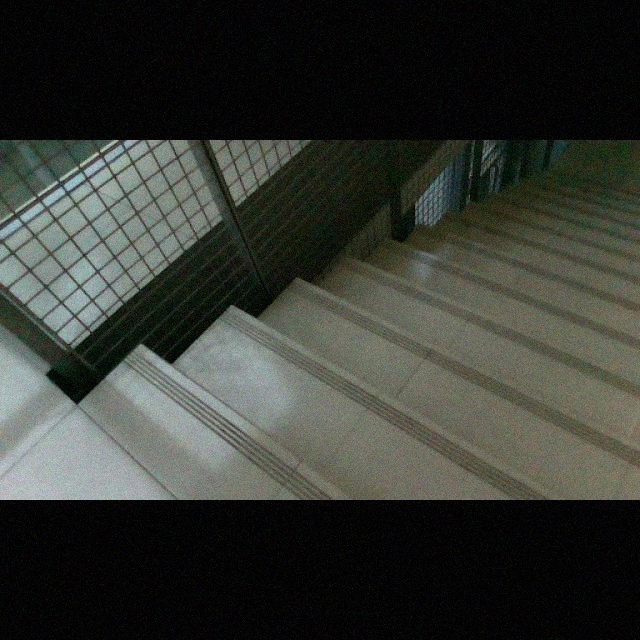stair: (110, 167, 640, 501)
